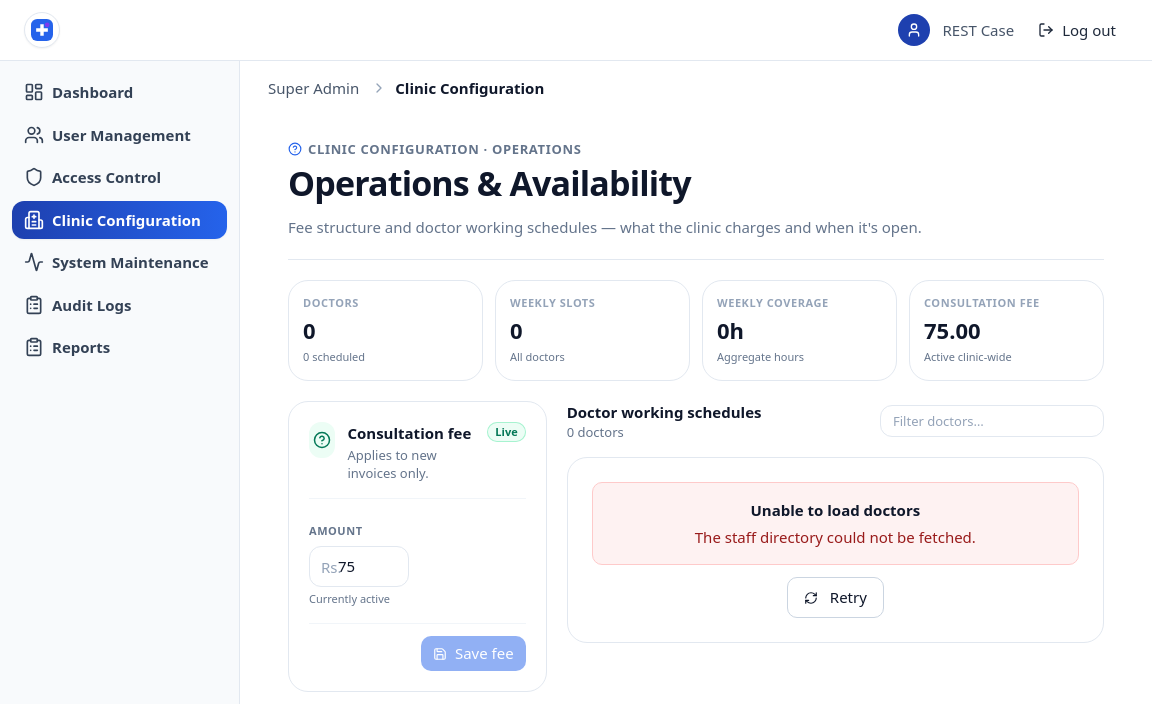
Scenario: super-admin clinic configuration — REST cases › surfaces a roster load failure and retries it
This screenshot has width=1152, height=704.
Expected: the heading "Unable to load doctors" is shown, [750,500,920,520]
Expected: the text "The staff directory could not be fetched." is shown, [695,527,976,547]
Click the button "Retry" at (835, 598), box [787,577,884,618]
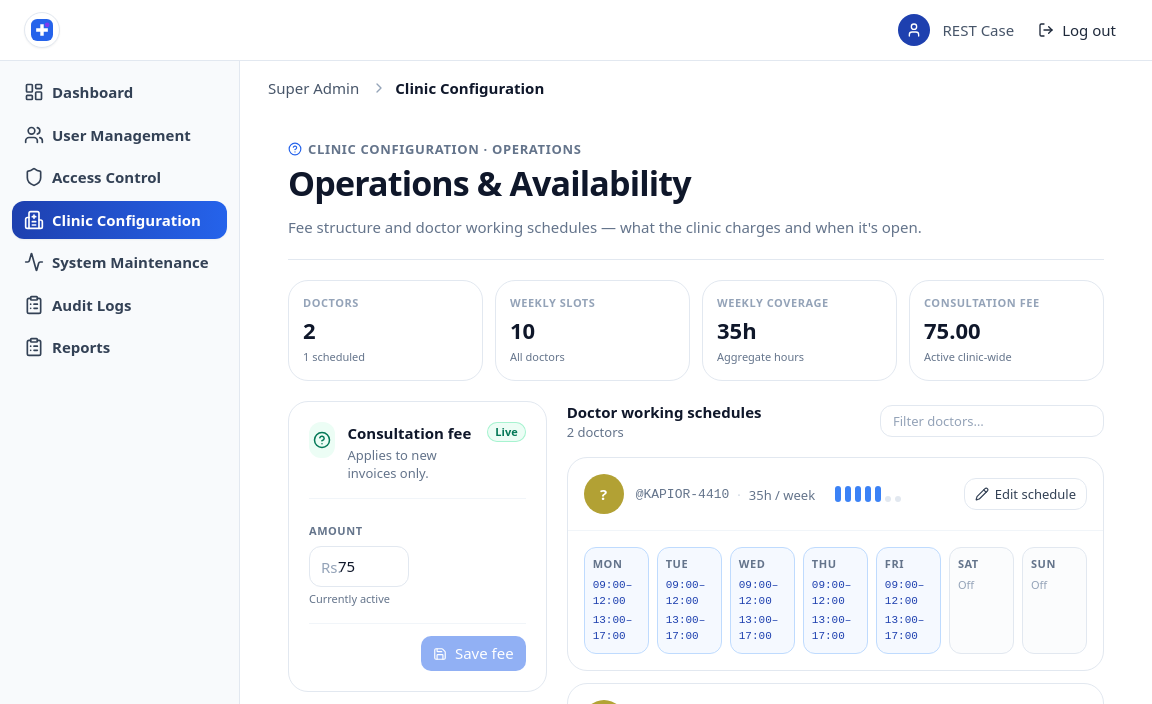
Expected: the text "@KAPIOR-4410" is shown, [636,486,729,504]
